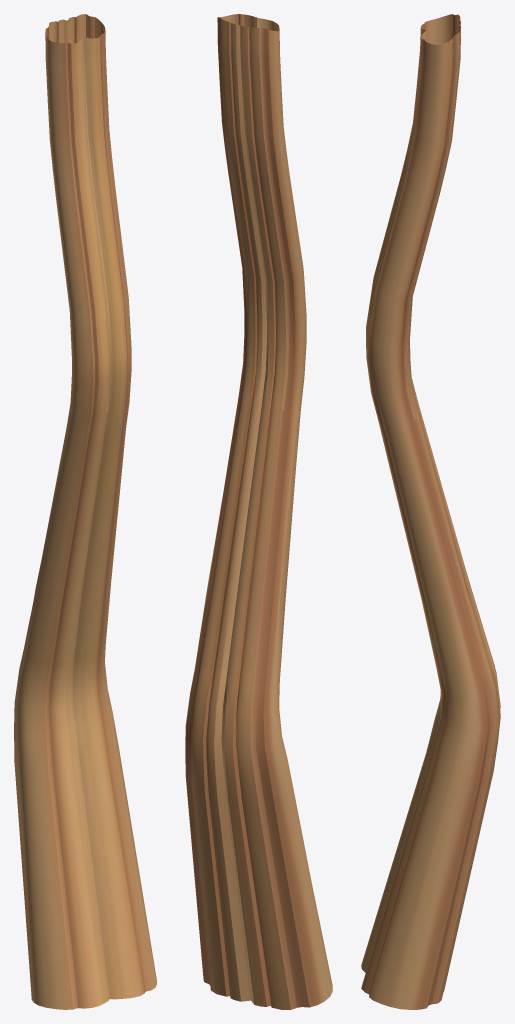
File: spine01.fbx
The picture shows the model from 3 angles, left to right: view 1: azimuth 30°, elevation 25°; view 2: azimuth 150°, elevation 25°; view 3: azimuth 270°, elevation 25°; orthographic projection. The views are drawn at different scales.
Parts seen in each view (by area): view 1: L_Gracile_Tubercle3; view 2: L_Gracile_Tubercle3; view 3: L_Gracile_Tubercle3.
Part boxes in pixels (box(x1,y1,x2,y2)): L_Gracile_Tubercle3: box(14, 14, 156, 1009); L_Gracile_Tubercle3: box(185, 14, 332, 1009); L_Gracile_Tubercle3: box(361, 14, 500, 1009).
Bounding box in the file's own units: 3.11 × 24.51 × 3.23.
Materials: 1 (1 with a texture image).
